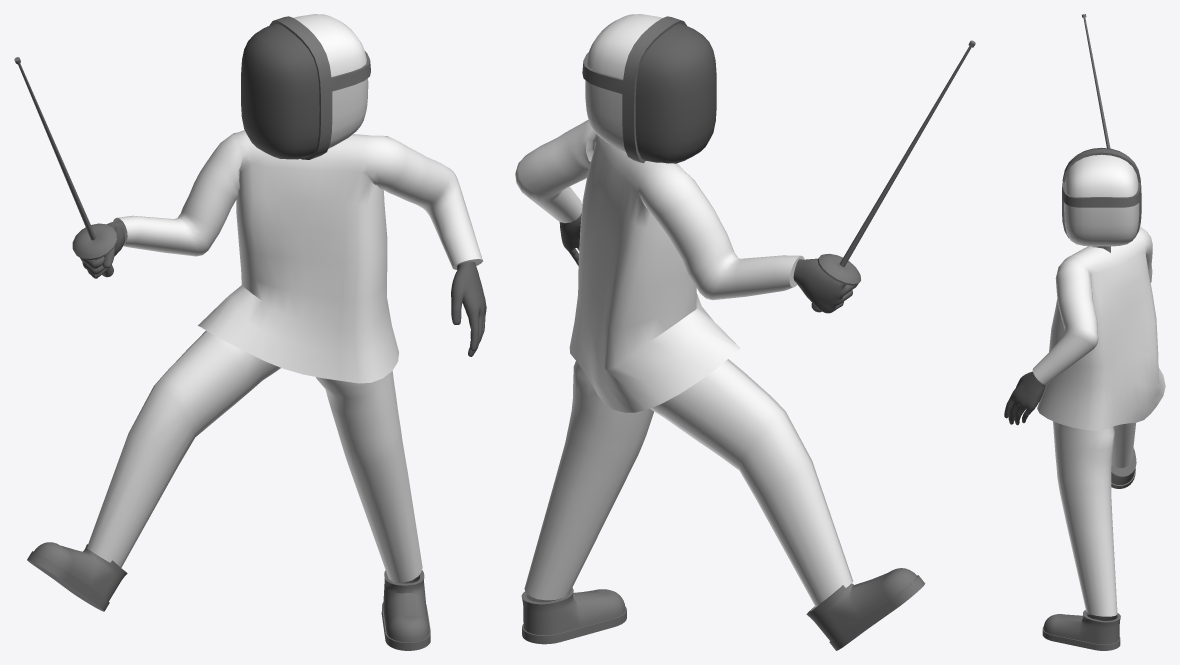
The model's file is person_fencing.glb.
3 renders of one model, left to right at view 1: azimuth 30°, elevation 25°; view 2: azimuth 150°, elevation 25°; view 3: azimuth 270°, elevation 25°, orthographic. The views are drawn at different scales.
Visible parts, largest first — view 1: Circle.067, Cube.244, Sphere.018, Sphere.017, Cube.245, Circle.068; view 2: Circle.067, Cube.244, Sphere.018, Sphere.017, Cube.245, Circle.068; view 3: Circle.067, Cube.244, Sphere.017, Cube.245, Sphere.018, Circle.068.
Boxes of the visible parts, bbox=[...] form: Circle.067: bbox=[80, 130, 486, 582]; Cube.244: bbox=[241, 14, 368, 159]; Sphere.018: bbox=[27, 542, 127, 611]; Sphere.017: bbox=[381, 570, 430, 650]; Cube.245: bbox=[269, 16, 370, 159]; Circle.068: bbox=[14, 57, 117, 277]; Circle.067: bbox=[515, 119, 857, 606]; Cube.244: bbox=[585, 14, 716, 163]; Sphere.018: bbox=[806, 568, 925, 650]; Sphere.017: bbox=[521, 588, 626, 644]; Cube.245: bbox=[582, 16, 686, 163]; Circle.068: bbox=[811, 40, 975, 312]; Circle.067: bbox=[1004, 226, 1165, 616]; Cube.244: bbox=[1064, 147, 1139, 252]; Sphere.017: bbox=[1042, 610, 1120, 650]; Cube.245: bbox=[1062, 149, 1141, 238]; Sphere.018: bbox=[1111, 448, 1136, 488]; Circle.068: bbox=[1082, 14, 1110, 148].
Bounding box in the file's own units: 1.5 × 2.16 × 0.6485.
Materials: 1 (1 with a texture image).
